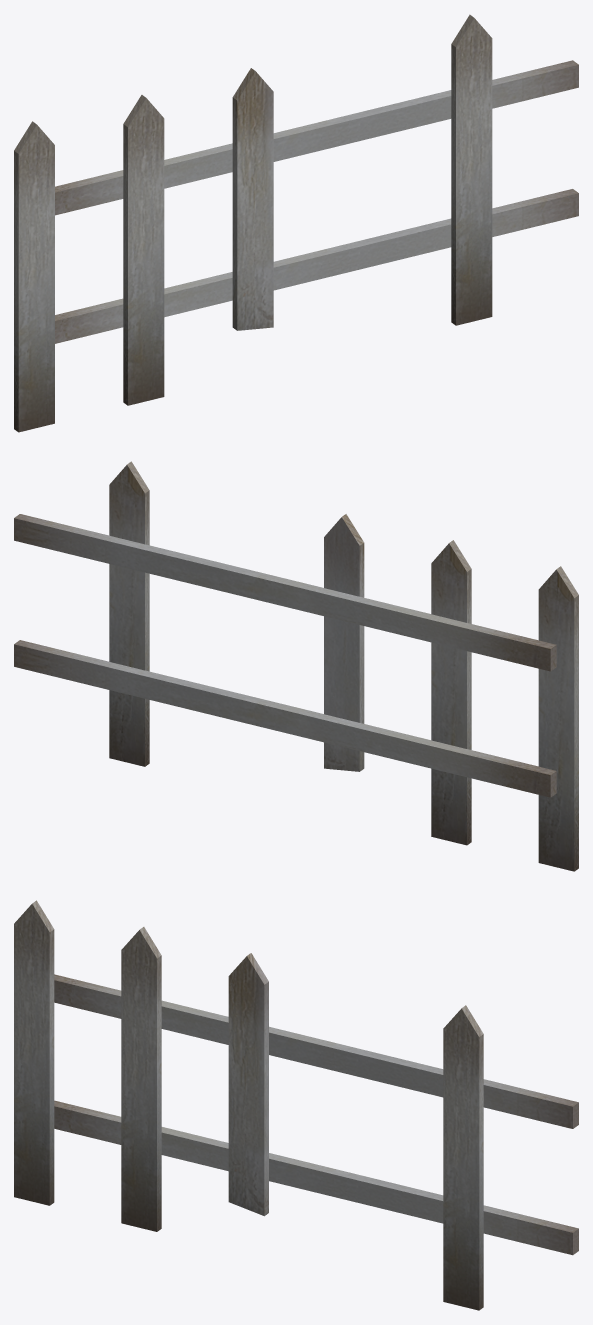
The model's file is Fence_2.fbx.
3 views of the same model, one above another, from view 1: azimuth 30°, elevation 25°; view 2: azimuth 150°, elevation 25°; view 3: azimuth 330°, elevation 25° (orthographic).
Parts seen in each view (by area): view 1: Fence_2; view 2: Fence_2; view 3: Fence_2.
Boxes of the visible parts, x1,y1,x2,y2 form: Fence_2: (14, 14, 578, 432); Fence_2: (14, 461, 578, 871); Fence_2: (14, 900, 578, 1310).
Bounding box in the file's own units: 155 × 79.56 × 5.03.
